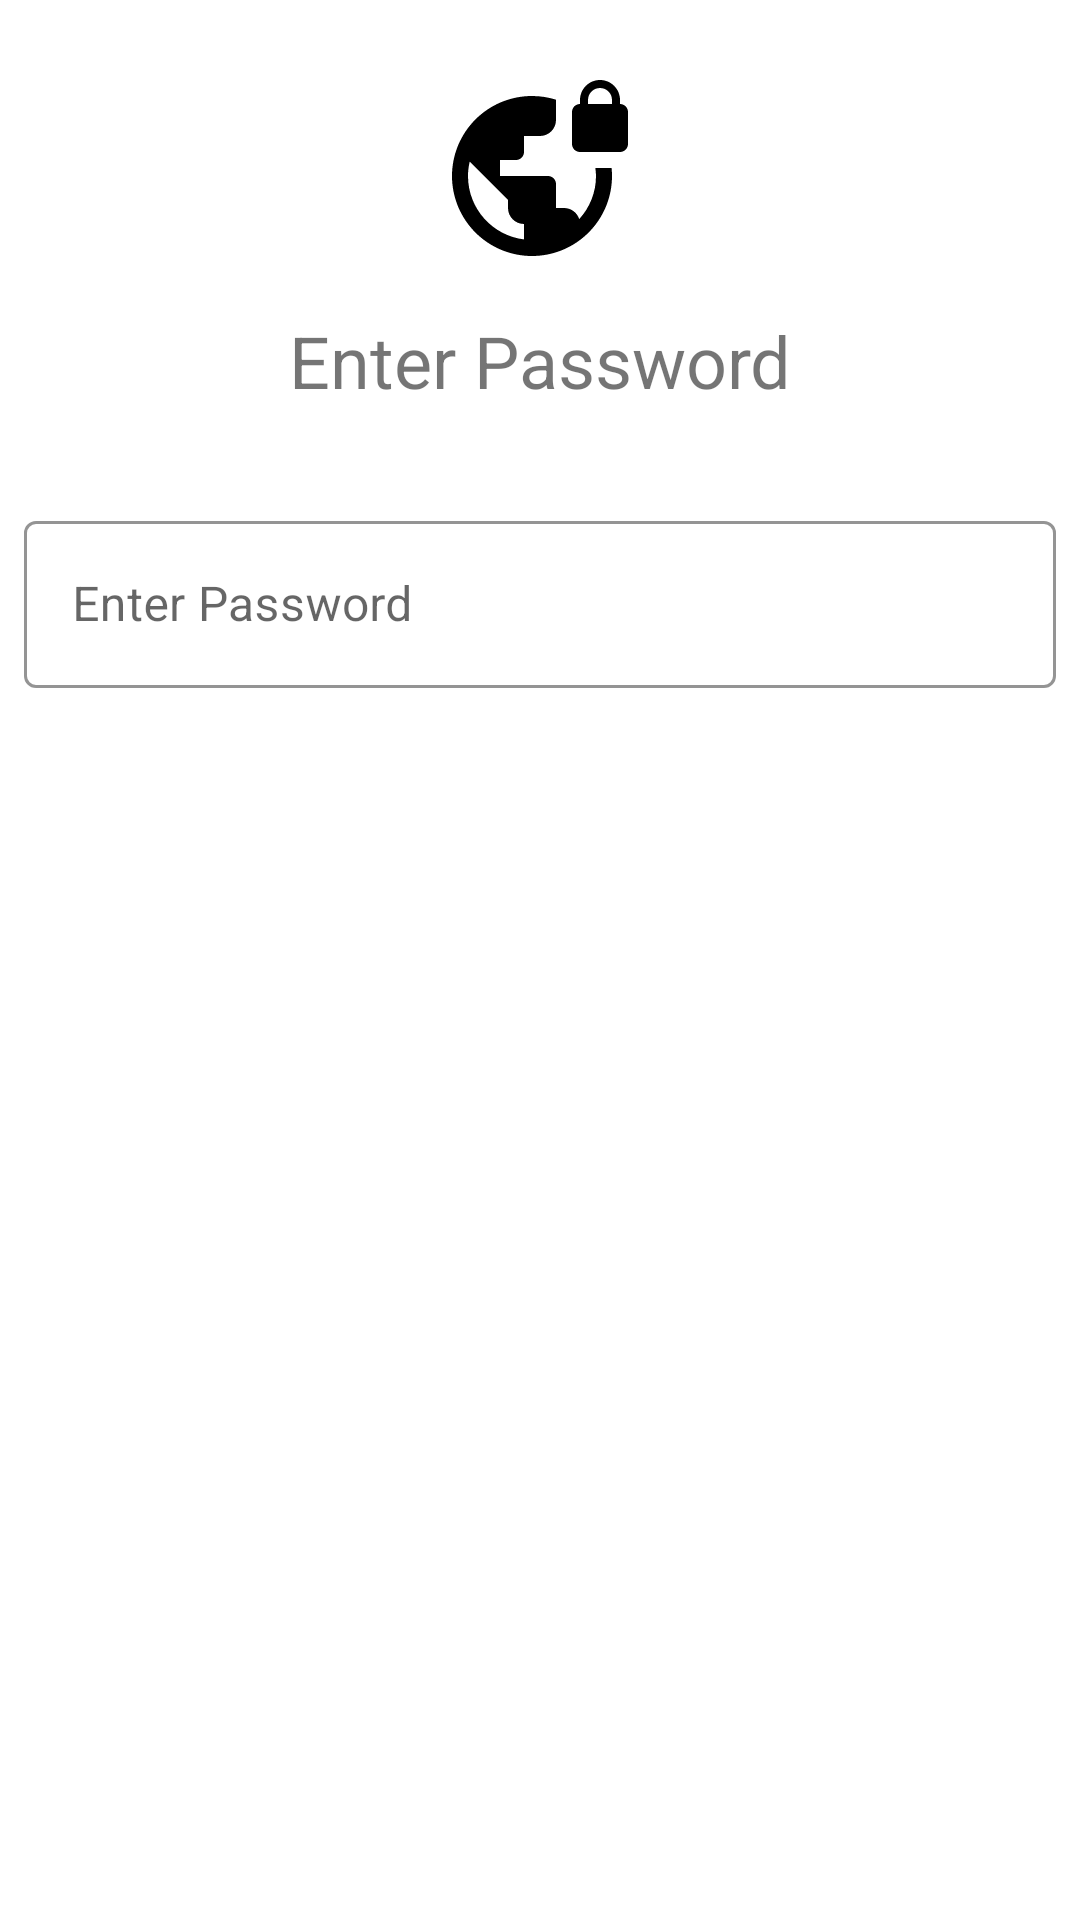

Icons on this 1080×1920 Android screen, each with its box as detection(x1, y1, x2, y2):
world lock: detection(452, 80, 628, 256)
